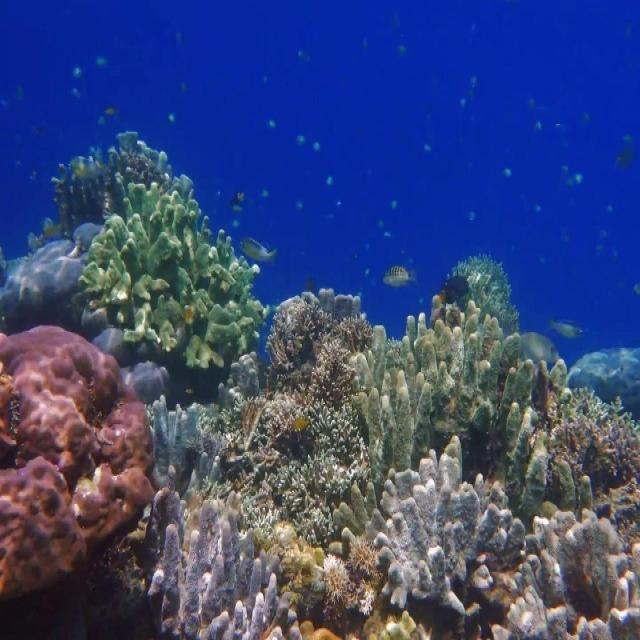reefs: (330, 301, 595, 557), (0, 324, 154, 605), (203, 305, 371, 550), (79, 172, 268, 367), (368, 437, 525, 615), (146, 491, 302, 639), (495, 514, 639, 639), (547, 388, 639, 494)
